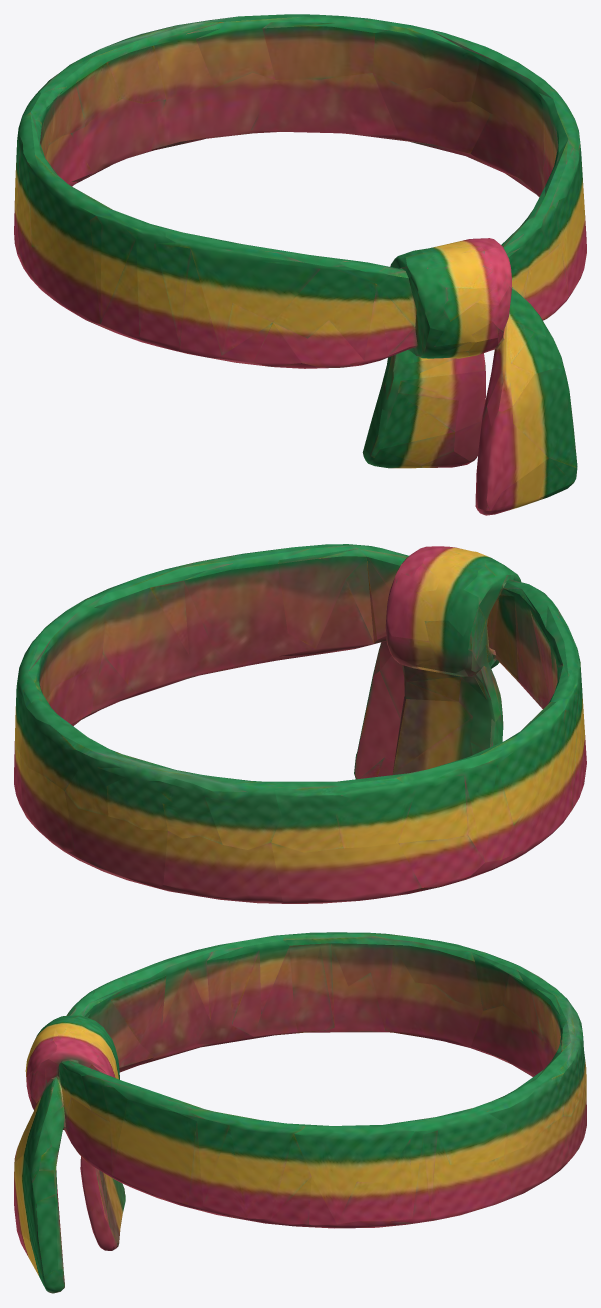
The model's file is sash_belt.fbx.
The picture shows the model from 3 angles, top to bottom: view 1: azimuth 30°, elevation 25°; view 2: azimuth 150°, elevation 25°; view 3: azimuth 270°, elevation 25°; orthographic projection. The views are drawn at different scales.
Parts seen in each view (by area): view 1: Mesh_0; view 2: Mesh_0; view 3: Mesh_0.
Part boxes in pixels (x1=…): Mesh_0: x1=14, y1=14, x2=586, y2=515; Mesh_0: x1=14, y1=544, x2=586, y2=903; Mesh_0: x1=14, y1=932, x2=586, y2=1293.
Size of the model in its own units: 1.6 by 0.8212 by 1.9.
Materials: 1 (1 with a texture image).
